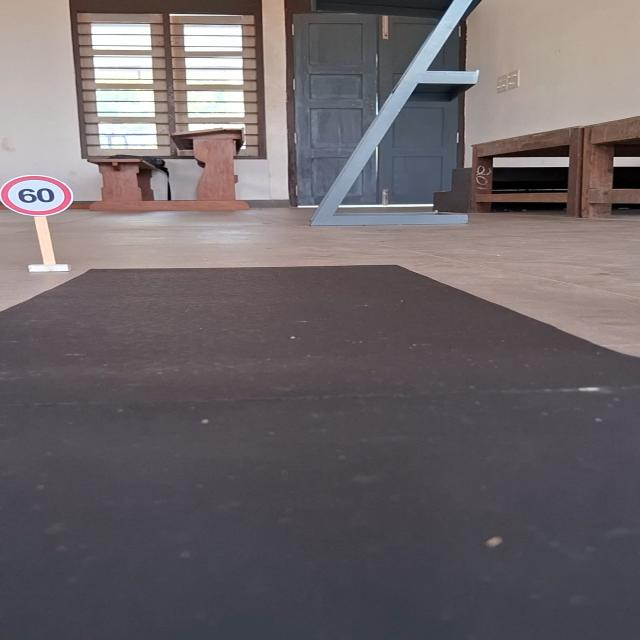Speed60: (0, 174, 75, 217)
